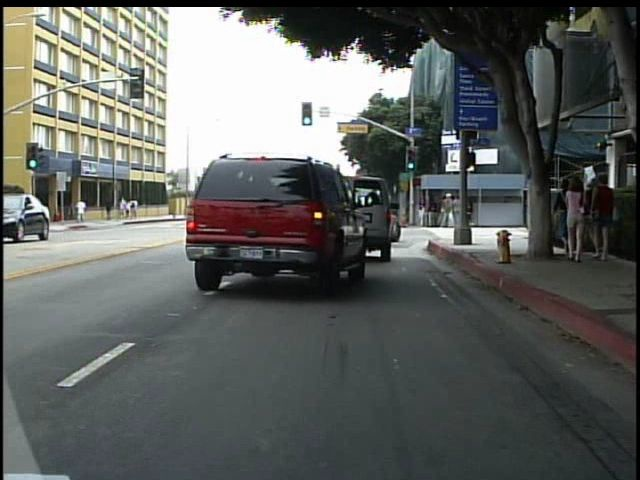person: (591, 175, 622, 266), (560, 179, 591, 270), (440, 190, 456, 232), (75, 196, 90, 226)
